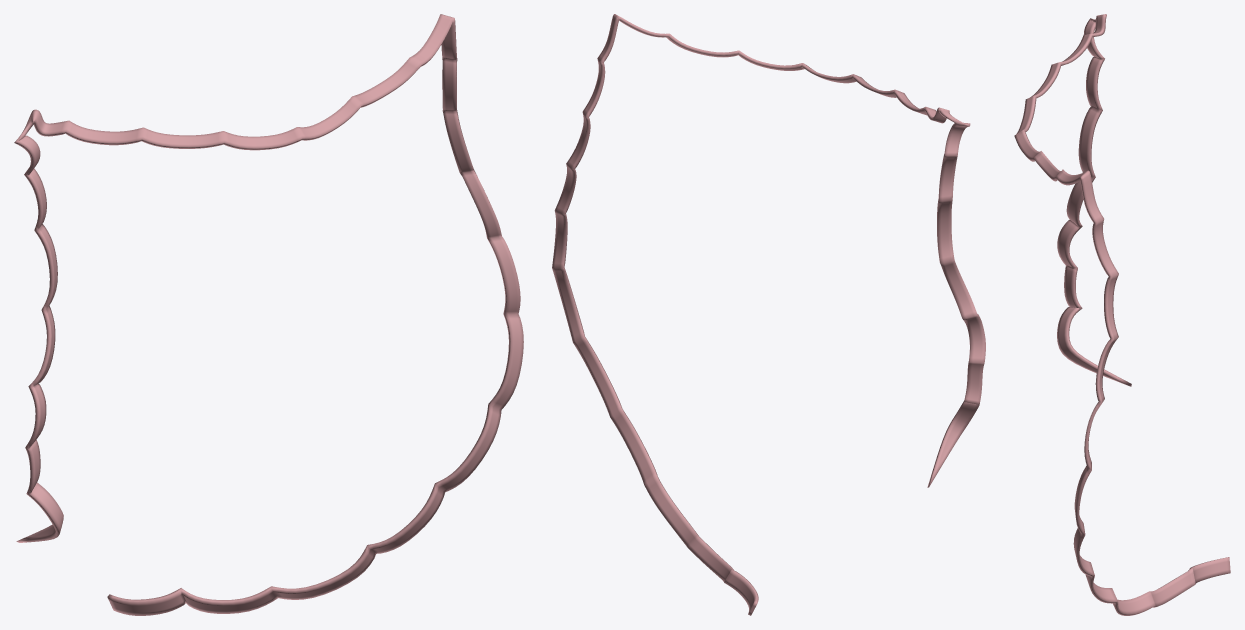
3 renders of one model, left to right at view 1: azimuth 30°, elevation 25°; view 2: azimuth 150°, elevation 25°; view 3: azimuth 270°, elevation 25°, orthographic. The views are drawn at different scales.
Parts seen in each view (by area): view 1: ZA_5755a8ffe4ac269e; view 2: ZA_5755a8ffe4ac269e; view 3: ZA_5755a8ffe4ac269e.
Boxes of the visible parts, x1,y1,x2,y2 form: ZA_5755a8ffe4ac269e: [14, 14, 523, 615]; ZA_5755a8ffe4ac269e: [552, 14, 985, 615]; ZA_5755a8ffe4ac269e: [1014, 14, 1230, 615].
Bounding box in the file's own units: 0.1803 × 0.2038 × 0.0796.
